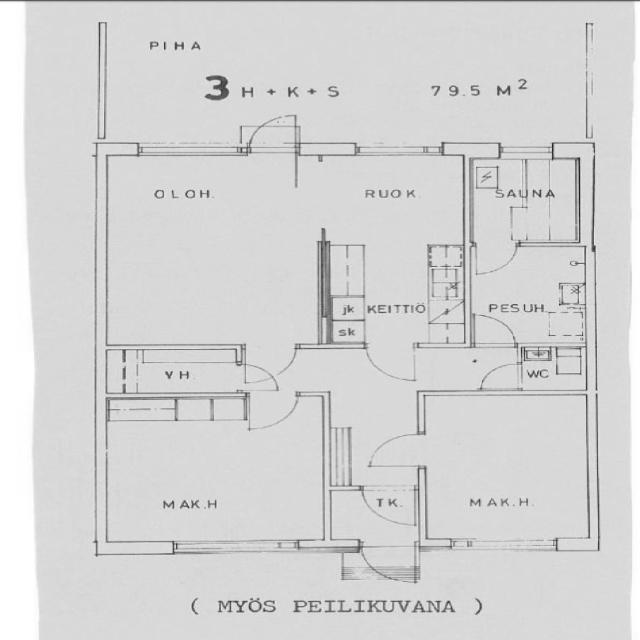door: (353, 538, 422, 587), (242, 111, 303, 158), (358, 482, 418, 528), (236, 348, 293, 395), (363, 429, 426, 471), (360, 342, 418, 385), (242, 396, 300, 434), (468, 309, 519, 352), (466, 242, 518, 276), (476, 360, 521, 393)
window: (168, 538, 305, 558), (125, 140, 252, 160), (442, 536, 557, 554), (349, 141, 448, 159), (496, 142, 556, 160)
zone: (100, 152, 328, 348), (95, 394, 334, 550), (321, 150, 466, 344), (418, 388, 594, 545), (99, 0, 229, 148), (468, 245, 589, 345), (471, 154, 582, 247), (107, 347, 246, 395), (518, 344, 588, 390)
